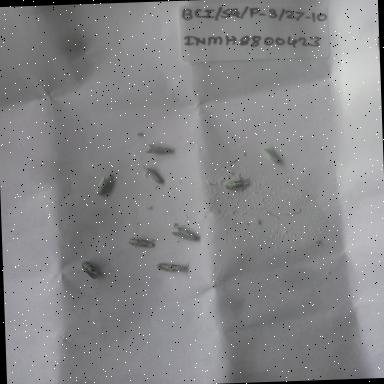pbw: (86, 170, 122, 203), (151, 256, 195, 278), (74, 256, 108, 280), (138, 138, 178, 158), (168, 222, 201, 244), (256, 143, 286, 167), (124, 232, 160, 250), (222, 174, 253, 194), (140, 162, 165, 186)
